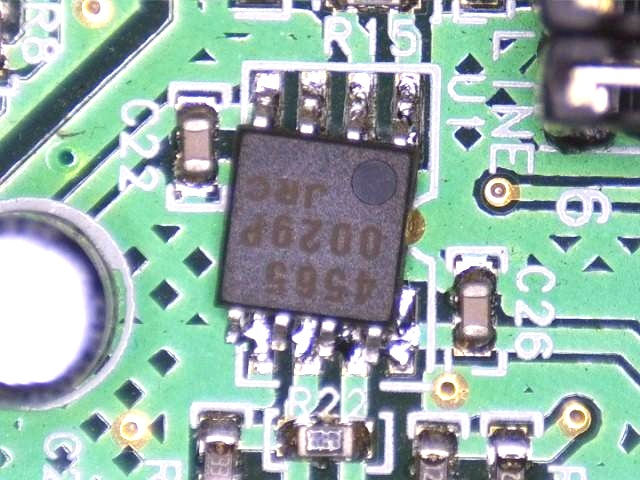pcb_defect: (215, 68, 420, 377), (225, 288, 417, 375)
